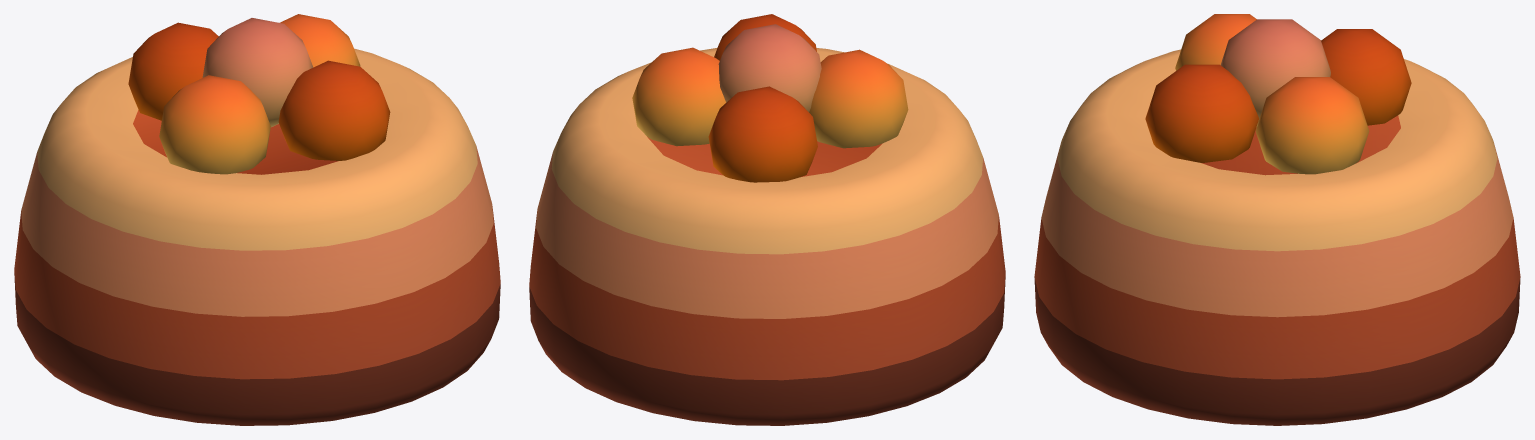
Rendered from cake_004.fbx.
3 renders of one model, left to right at view 1: azimuth 30°, elevation 25°; view 2: azimuth 150°, elevation 25°; view 3: azimuth 270°, elevation 25°, orthographic. The views are drawn at different scales.
Visible parts, largest first — view 1: cake_004; view 2: cake_004; view 3: cake_004.
Boxes of the visible parts, x1=… form: cake_004: x1=14, y1=14, x2=500, y2=425; cake_004: x1=529, y1=14, x2=1005, y2=425; cake_004: x1=1034, y1=14, x2=1520, y2=425.
Size of the model in its own units: 22.46 by 22.46 by 15.86.
